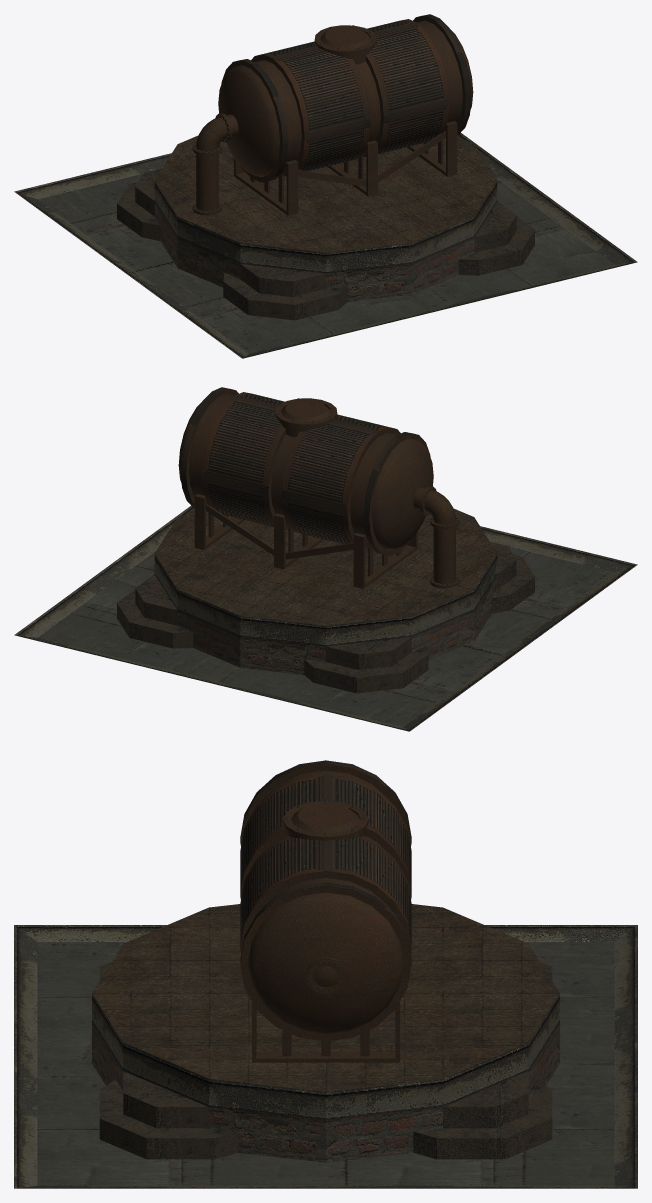
Rendered from structure_piece_rg_2.glb.
3 views of the same model, one above another, from view 1: azimuth 30°, elevation 25°; view 2: azimuth 150°, elevation 25°; view 3: azimuth 270°, elevation 25° (orthographic). The views are drawn at different scales.
Visible parts, largest first — view 1: structure_piece_rg_2, boiler_hx_2; view 2: structure_piece_rg_2, boiler_hx_2; view 3: structure_piece_rg_2, boiler_hx_2.
Part boxes in pixels (x1=…): structure_piece_rg_2: x1=14, y1=133, x2=637, y2=358; boiler_hx_2: x1=192, y1=14, x2=473, y2=215; structure_piece_rg_2: x1=14, y1=506, x2=637, y2=731; boiler_hx_2: x1=178, y1=387, x2=459, y2=588; structure_piece_rg_2: x1=14, y1=904, x2=637, y2=1188; boiler_hx_2: x1=240, y1=760, x2=411, y2=1062.
Size of the model in its own units: 8 by 3.7 by 8.
Materials: 6 (6 with a texture image).
